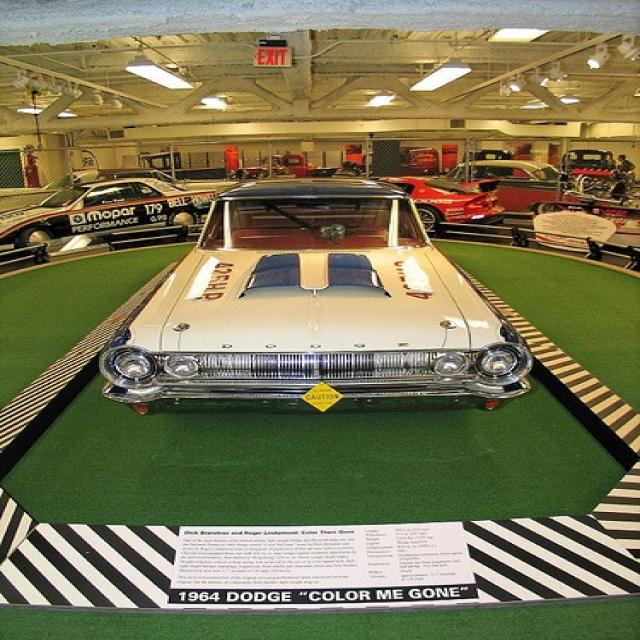car: (102, 176, 543, 414), (3, 178, 222, 244), (440, 160, 599, 212), (350, 177, 505, 230)
